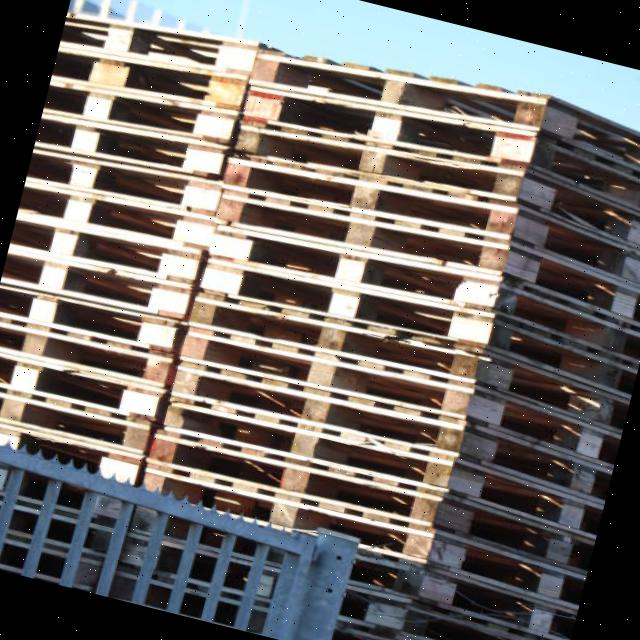Wooden-Pallets: (0, 4, 640, 640), (136, 427, 596, 590), (197, 174, 640, 334), (176, 321, 620, 477), (153, 394, 603, 545), (191, 219, 640, 365), (194, 255, 635, 401), (224, 120, 640, 260), (229, 79, 640, 219), (214, 158, 640, 292), (246, 46, 640, 169)
